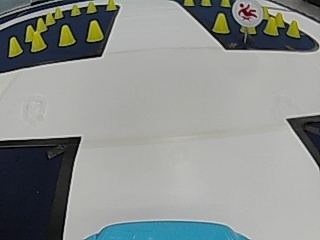cone: (86, 20, 103, 41), (58, 24, 74, 46), (212, 13, 229, 33), (30, 32, 45, 51), (264, 16, 278, 36), (8, 36, 21, 57), (287, 18, 300, 38), (25, 24, 33, 42), (86, 1, 97, 14), (70, 3, 80, 16), (45, 11, 54, 25), (275, 12, 283, 27), (106, 0, 116, 11), (54, 7, 63, 19), (201, 0, 211, 6)
tumble: (234, 0, 261, 24)
